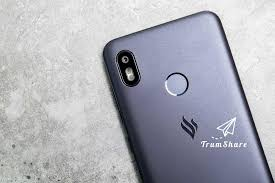vsmart: (99, 6, 273, 183)
